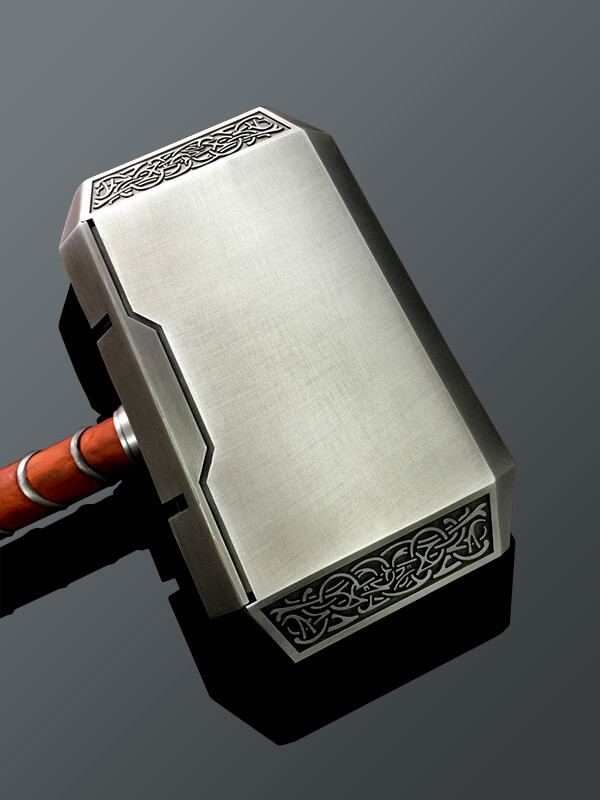THOR Hammer: (12, 69, 526, 669)
